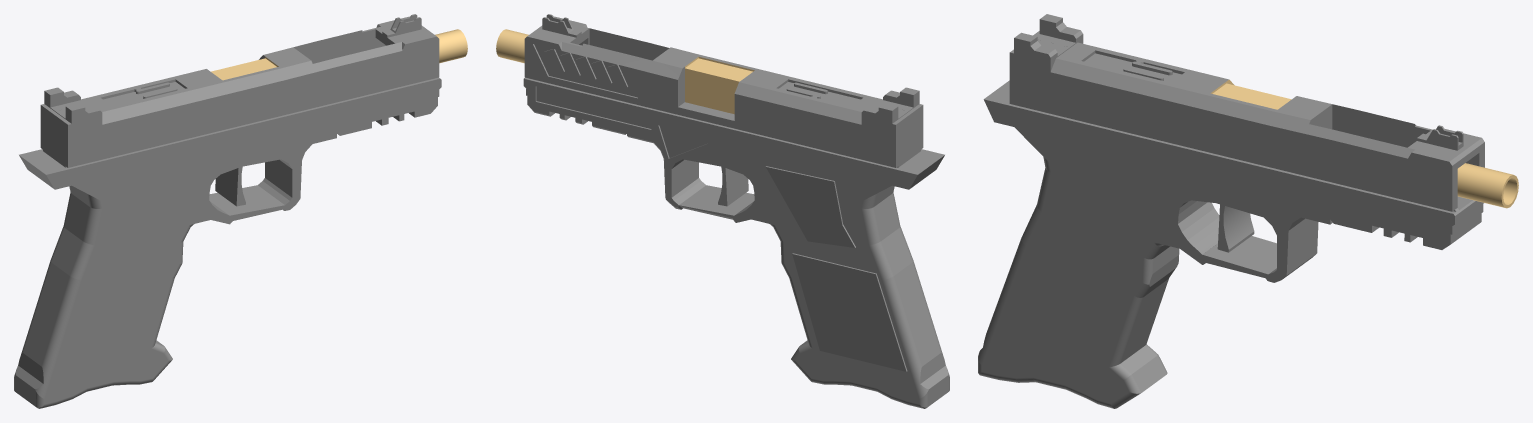
Rendered from Detailed Pistol.fbx.
3 renders of one model, left to right at view 1: azimuth 30°, elevation 25°; view 2: azimuth 150°, elevation 25°; view 3: azimuth 330°, elevation 25°, orthographic. The views are drawn at different scales.
Visible parts, largest first — view 1: Detailed Pistol; view 2: Detailed Pistol; view 3: Detailed Pistol.
Part boxes in pixels (<box>): Detailed Pistol: <box>14,14,467,408</box>; Detailed Pistol: <box>496,14,949,408</box>; Detailed Pistol: <box>978,14,1518,408</box>.
Bounding box in the file's own units: 550 × 354 × 62.
